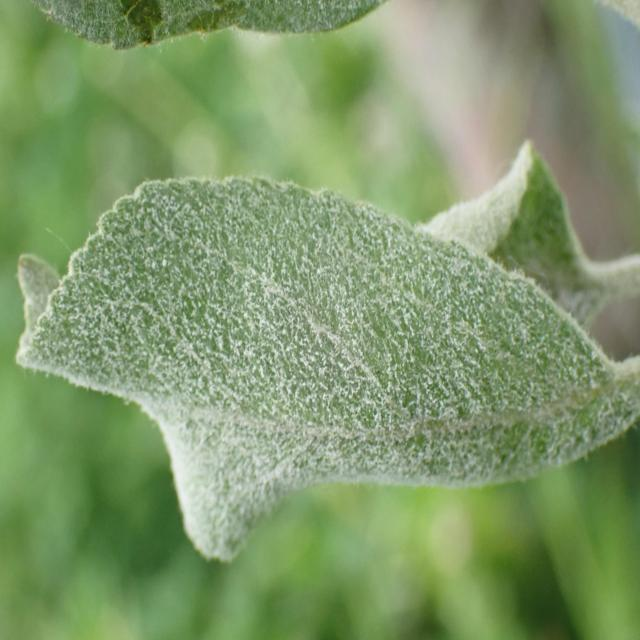Powdery_mildew: (7, 121, 640, 580), (0, 0, 407, 57)
